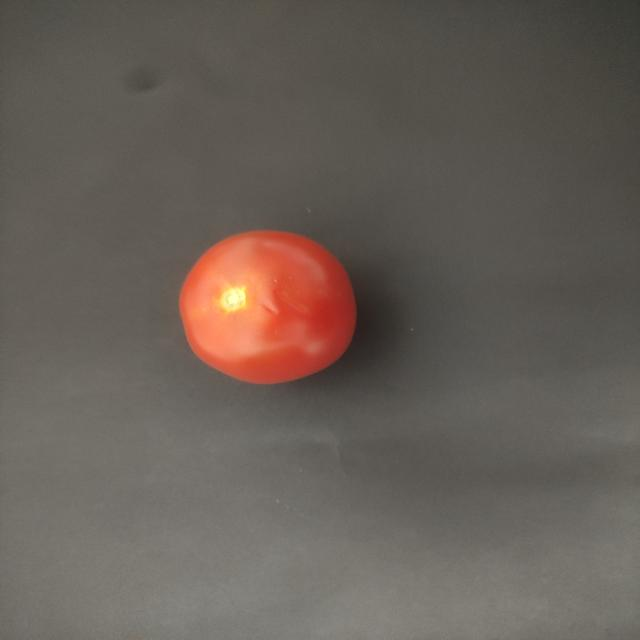kirmizi: (170, 222, 370, 398)
